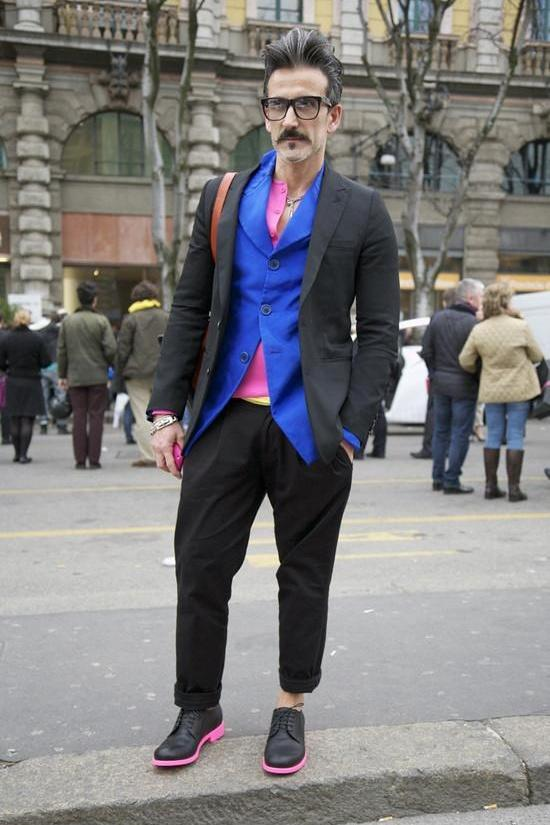pants: (174, 414, 354, 715)
sweater: (151, 146, 400, 466)
